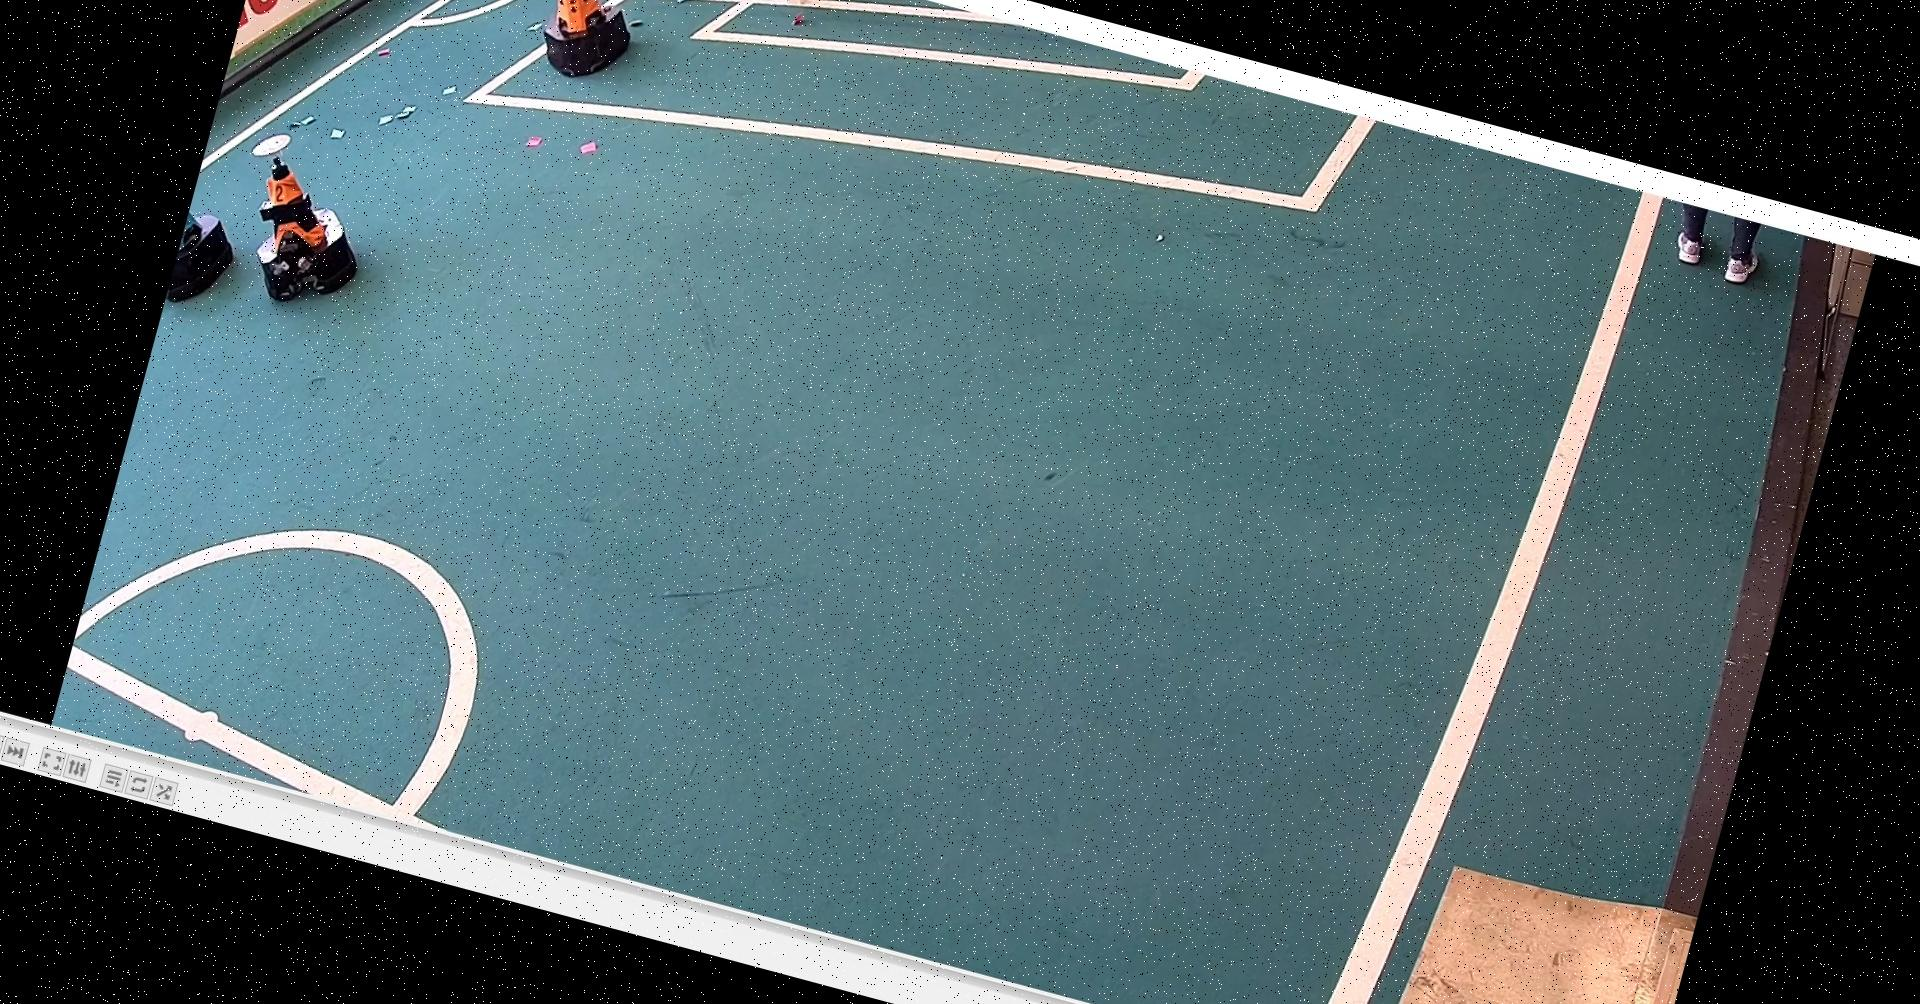Team_Red: (221, 116, 391, 314), (516, 0, 655, 91)
